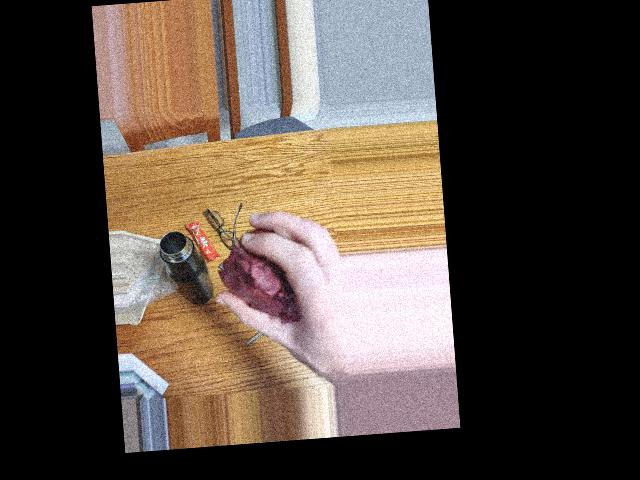onion: (224, 233, 303, 328)
